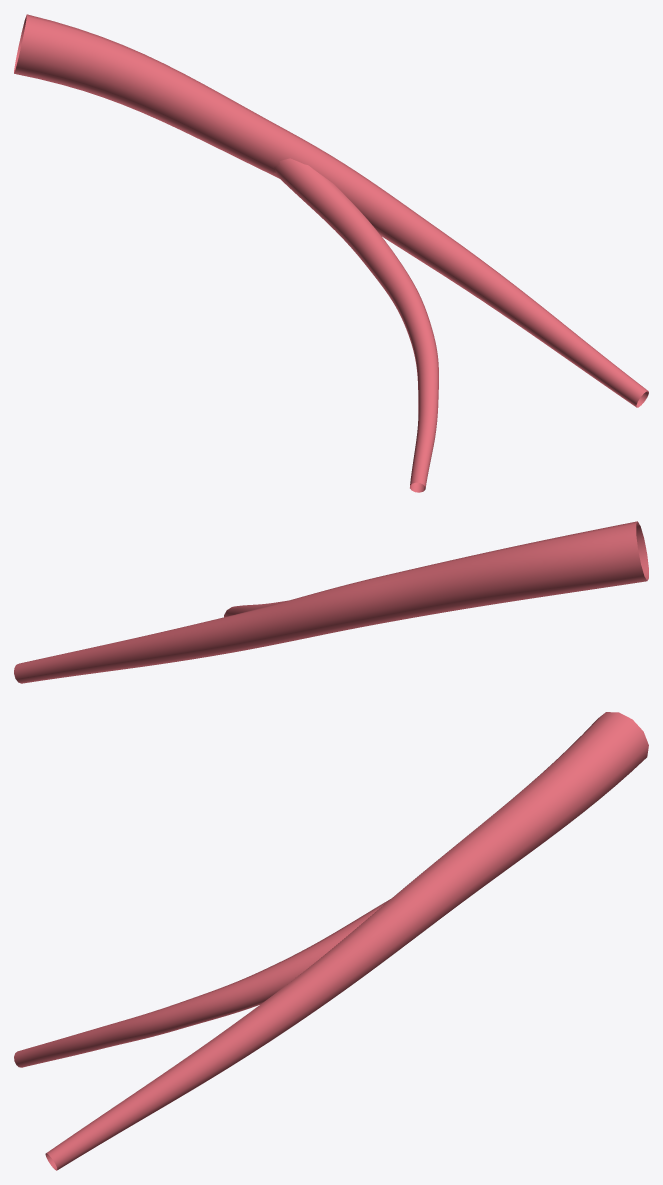
3 renders of one model, top to bottom at view 1: azimuth 30°, elevation 25°; view 2: azimuth 210°, elevation 25°; view 3: azimuth 270°, elevation 25°, orthographic. The views are drawn at different scales.
Parts seen in each view (by area): view 1: ZA_b63071e184a8757c; view 2: ZA_b63071e184a8757c; view 3: ZA_b63071e184a8757c.
Boxes of the visible parts, x1,y1,x2,y2 form: ZA_b63071e184a8757c: (14,14,648,492); ZA_b63071e184a8757c: (14,521,648,683); ZA_b63071e184a8757c: (14,712,648,1170).
Bounding box in the file's own units: 0.042 × 0.0315 × 0.0601.
